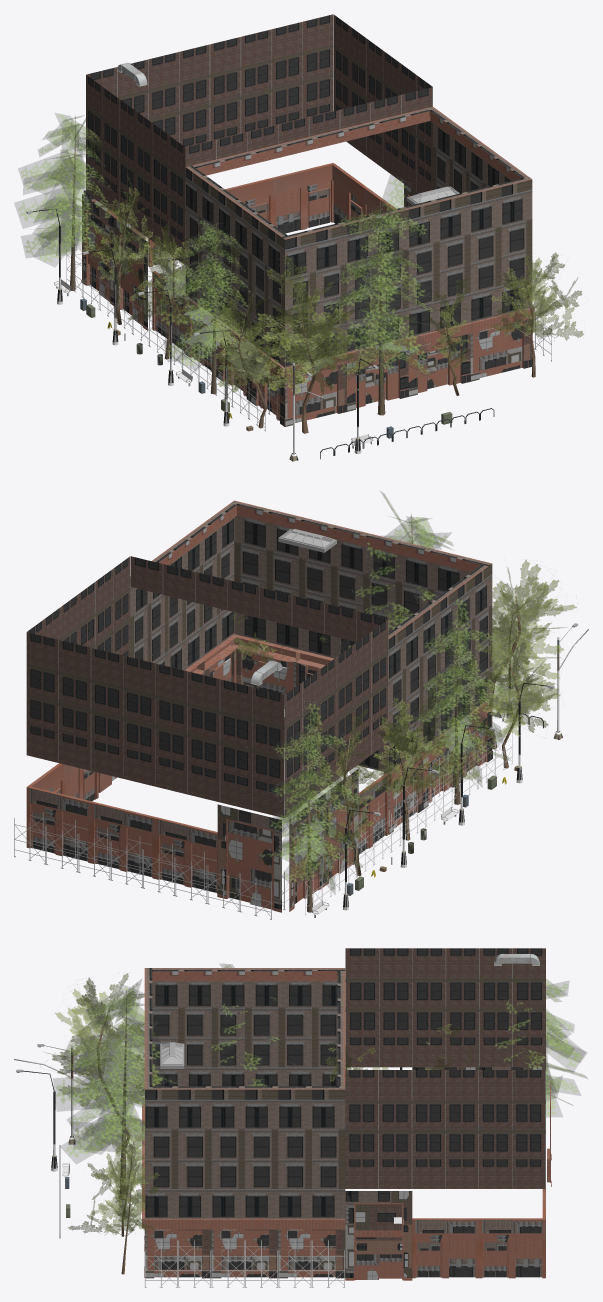
Rendered from proc3_02.gltf.
The picture shows the model from 3 angles, top to bottom: view 1: azimuth 30°, elevation 25°; view 2: azimuth 150°, elevation 25°; view 3: azimuth 270°, elevation 25°; orthographic projection. The views are drawn at different scales.
Visible parts, largest first — view 1: proc3_02; view 2: proc3_02; view 3: proc3_02.
Boxes of the visible parts, bbox=[...] form: proc3_02: bbox=[14, 14, 583, 461]; proc3_02: bbox=[14, 491, 588, 919]; proc3_02: bbox=[14, 948, 587, 1287].
Size of the model in its own units: 38.63 by 23.2 by 52.55.
Materials: 16 (13 with a texture image).
